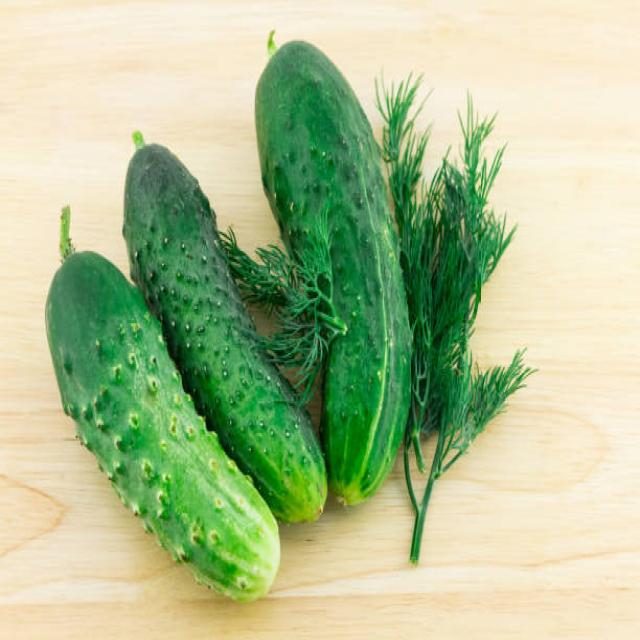cucumber: (46, 248, 280, 600), (123, 143, 326, 525), (253, 38, 412, 509)
